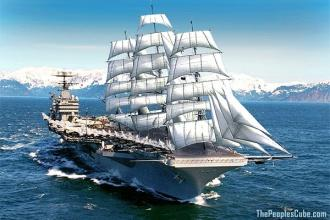fanchuan: (43, 4, 295, 202)
